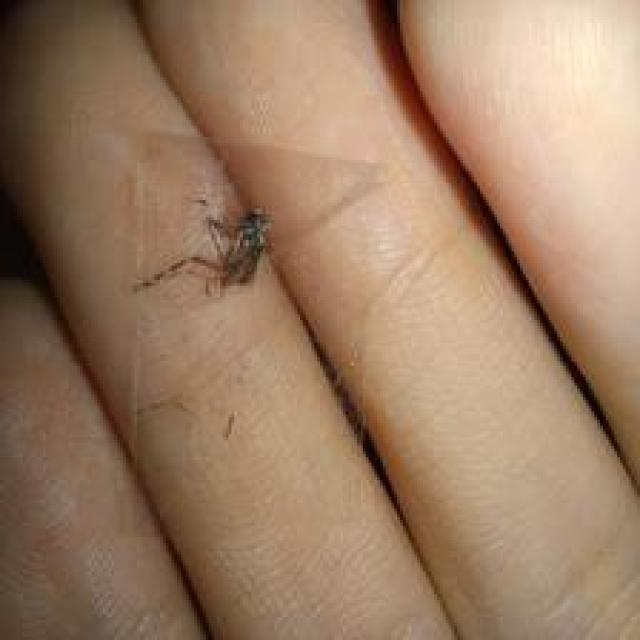Aedes albopictus: (132, 202, 274, 298)
